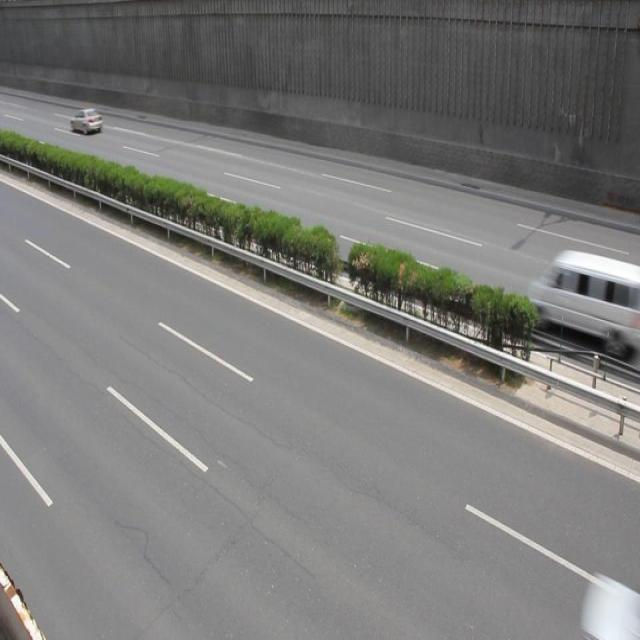car: (72, 105, 102, 134)
truck: (526, 252, 632, 350)
